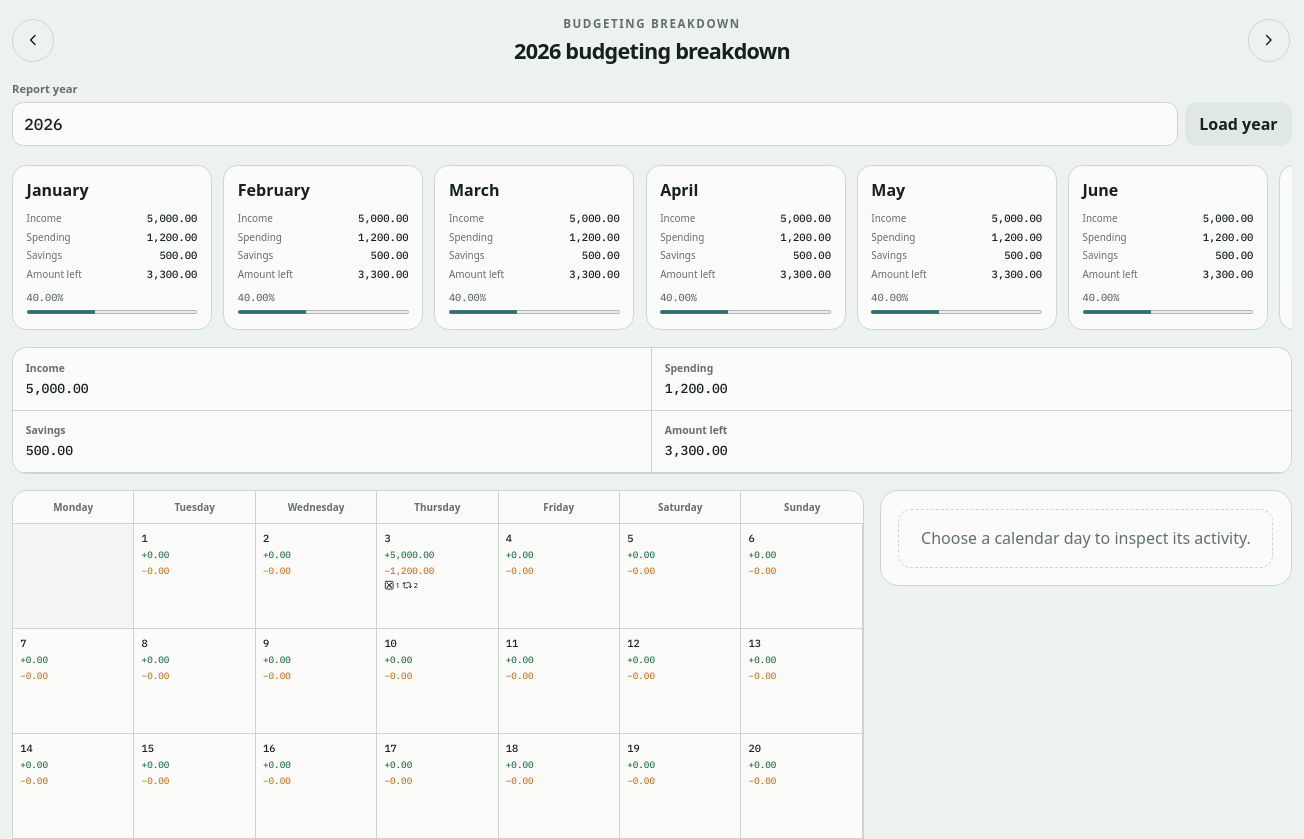
Scenario: BudgetBreakdown › does not retain prior-year figures when the next request fails
Check: the element with test id "breakdown-summary" shows "5,000.00", box x1=26 y1=380 x2=89 y2=397
Click the button named "Previous year" at (33, 40), box x1=12 y1=19 x2=54 y2=62
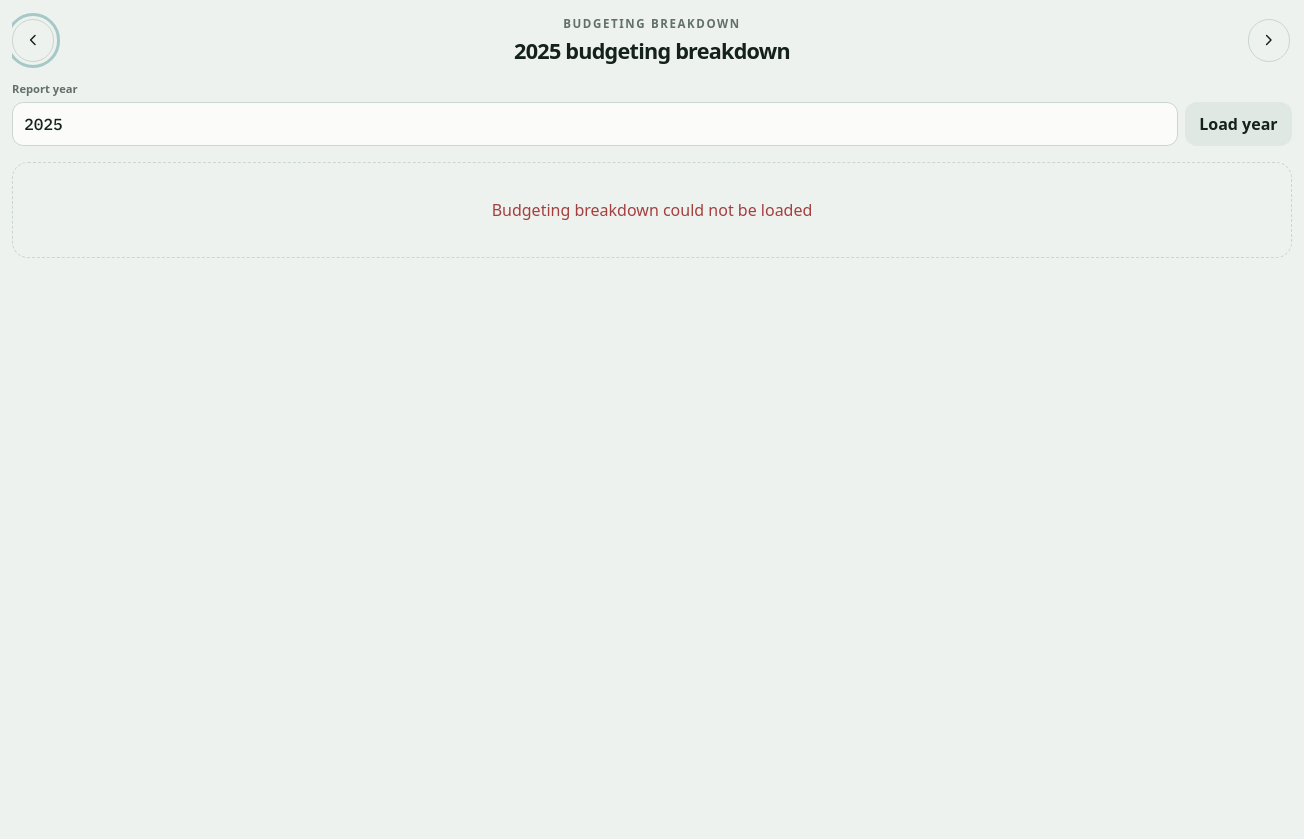
Check: the message shows "could not be loaded", box x1=492 y1=199 x2=812 y2=221
Check: the element with test id "breakdown-summary" is gone
